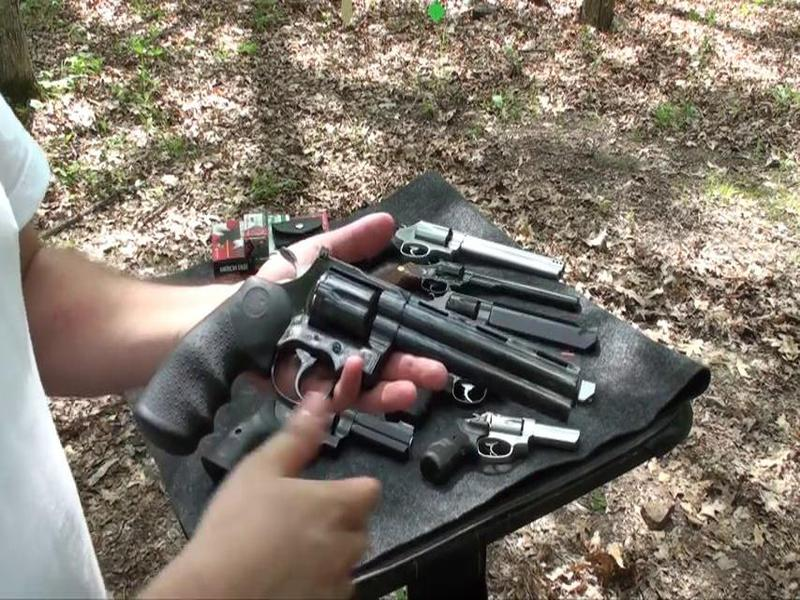Revolver: (157, 243, 565, 470)
